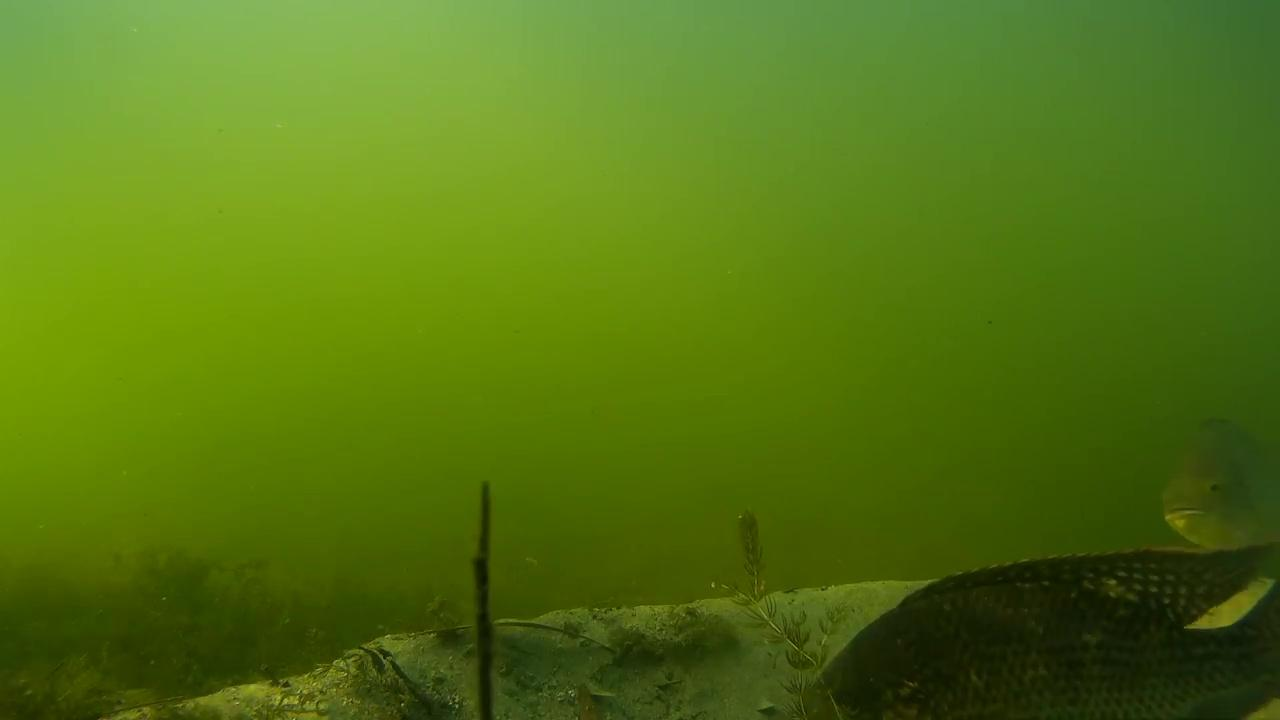Tilapia: (793, 550, 1280, 720), (1149, 412, 1280, 564)
